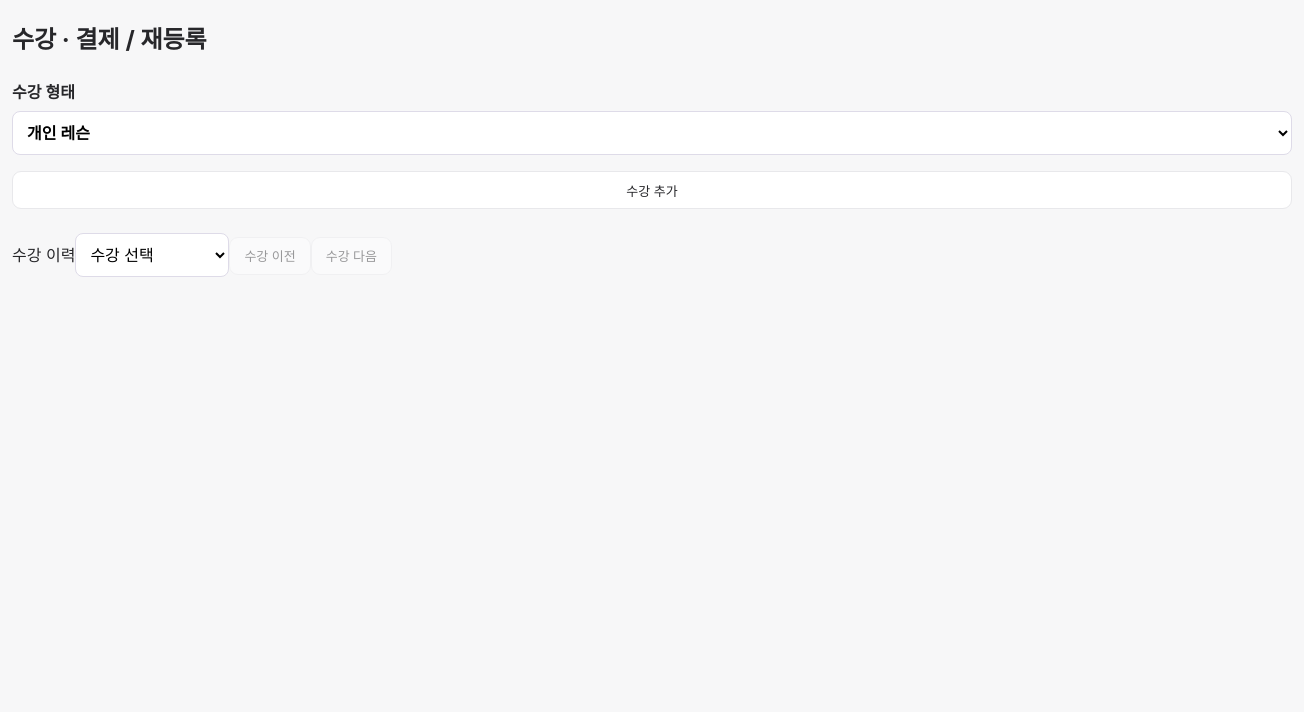
Scenario: renders cycle snapshots and ledger-derived available balance
The width and height of the screenshot is (1304, 712).
Select "개인 · 진행 중 · 1" in the dropdown labelled "수강 이력" at (152, 255), box [75,233,229,277]
(page scrolled)
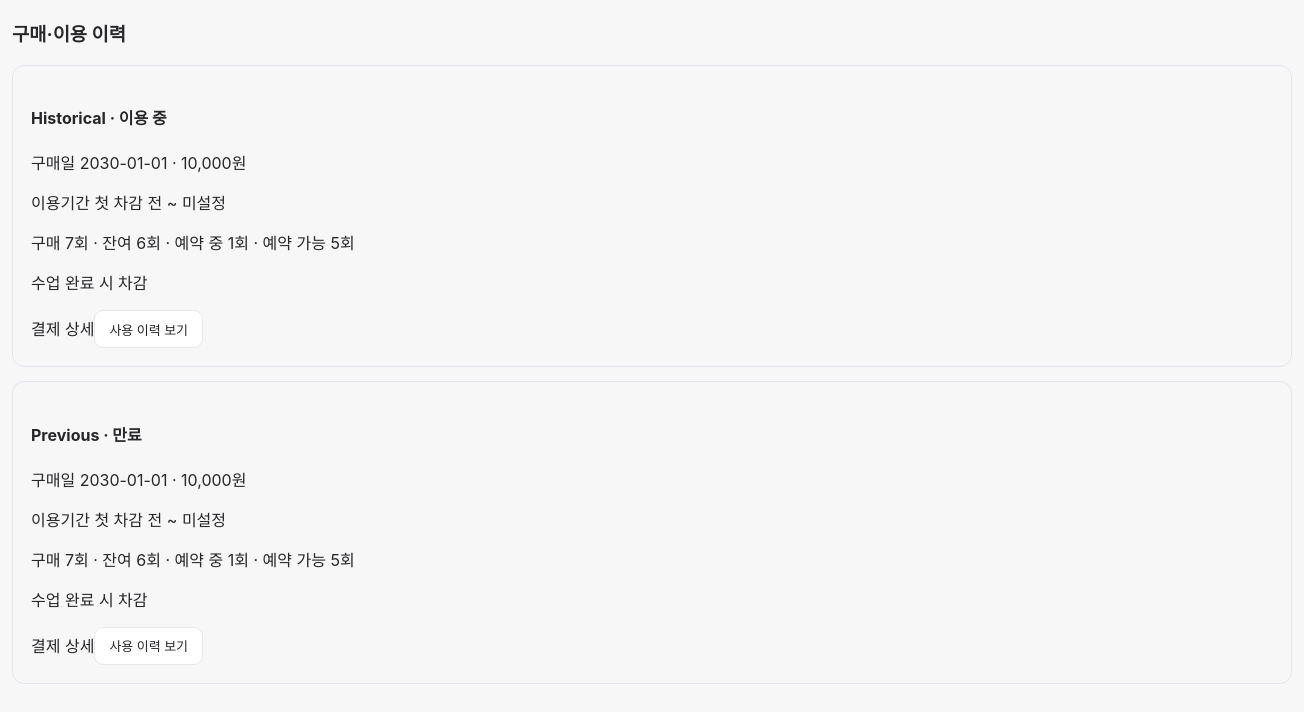
Now the heading "Previous · 만료" is shown, box [31,425,142,445]
Now the text "구매 7회 · 잔여 6회 · 예약 중 1회 · 예약 가능 5회" is shown 2 times, box [31,233,355,253]; [31,550,355,570]
